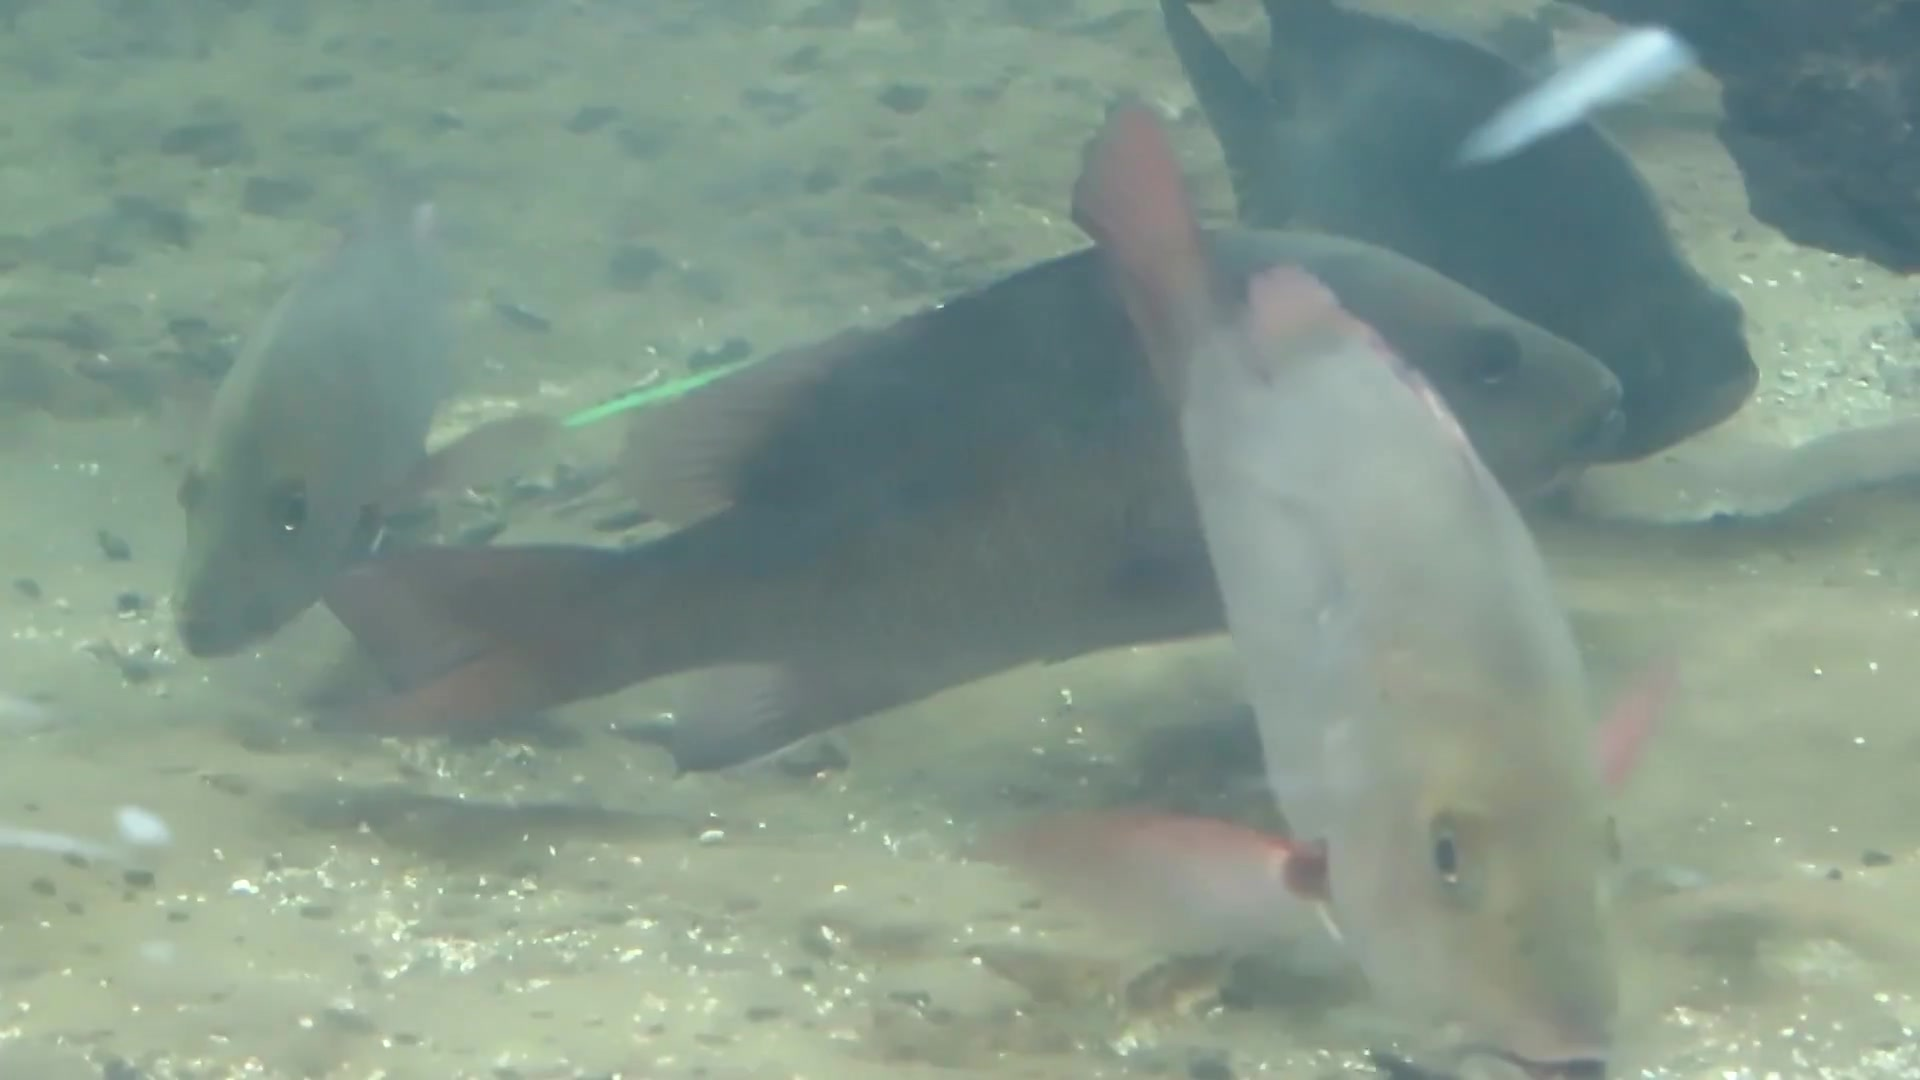Lutjanus argentimaculatus: (1160, 276, 1640, 1080), (119, 158, 468, 680)
